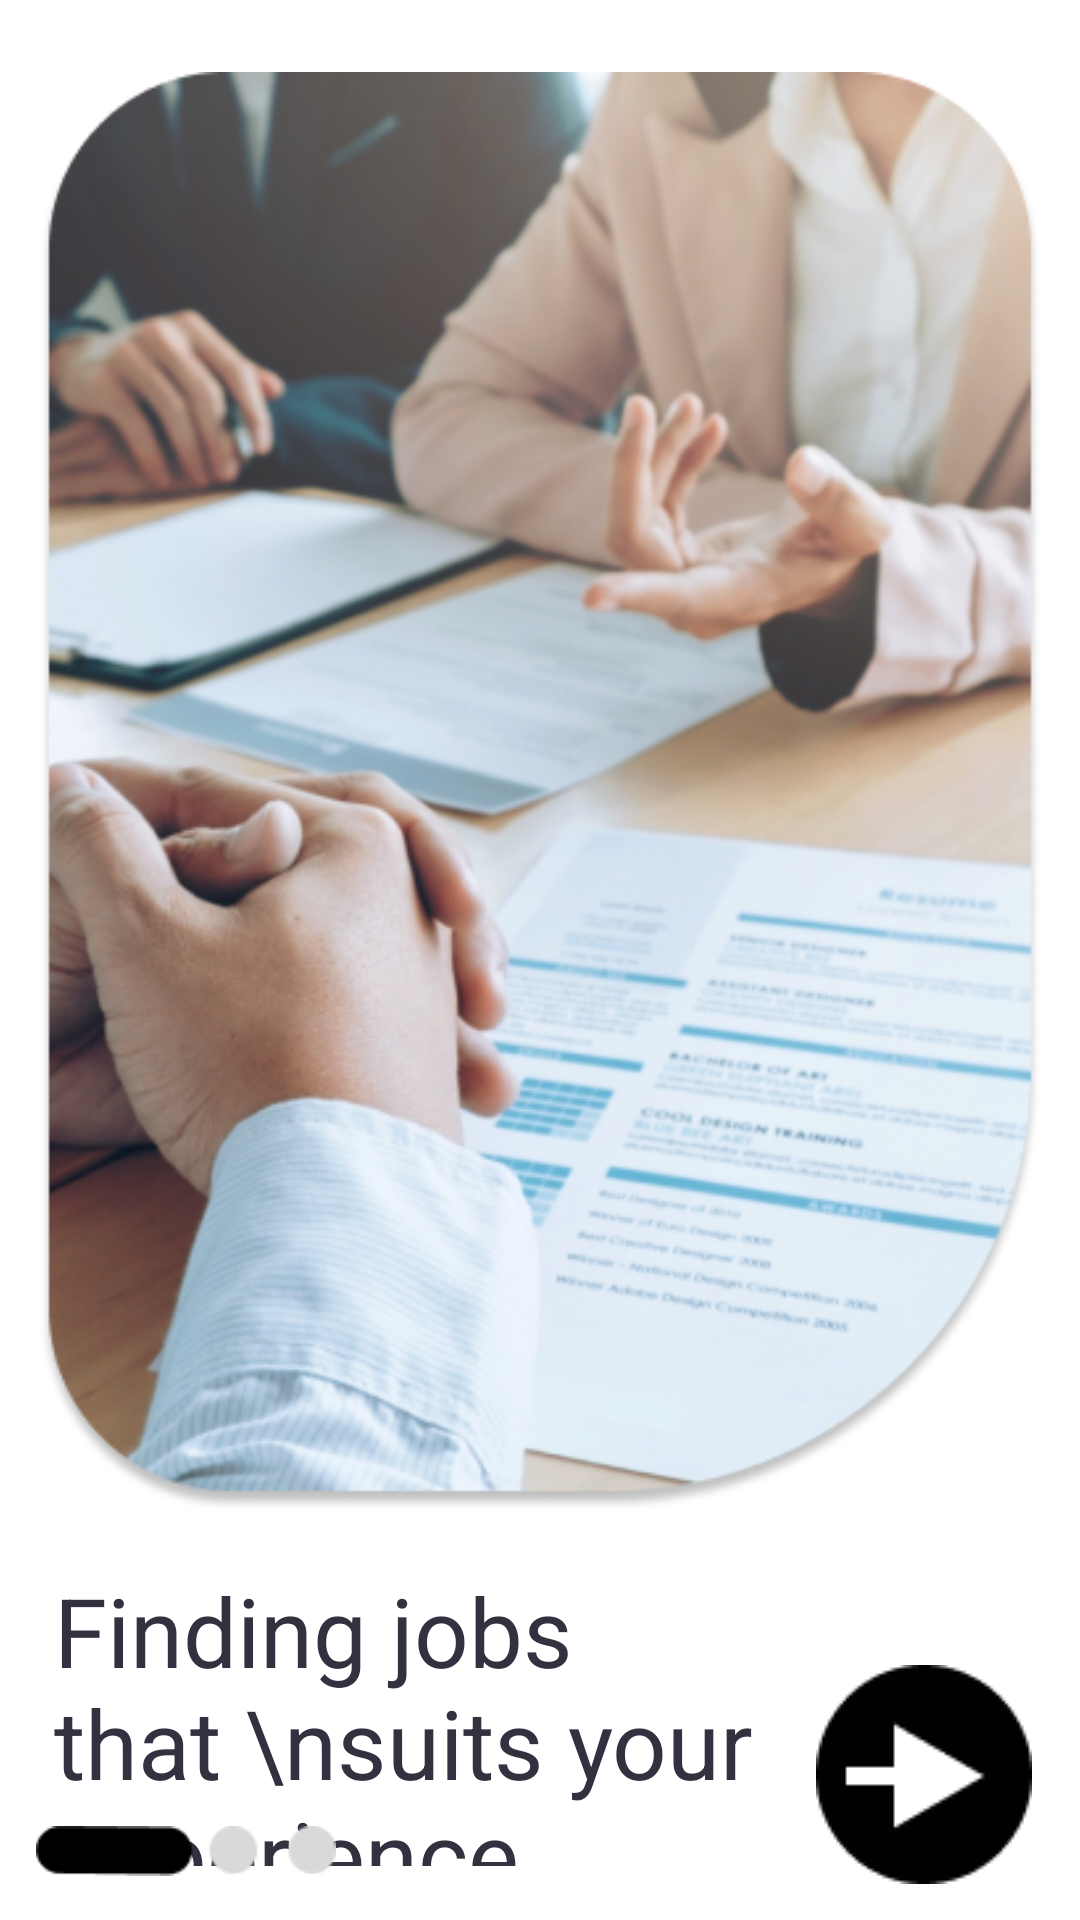

Icons on this 1080px×1920px Android screen, each with its box as bbox=[x1, y1, x2, y2]:
next: bbox=[816, 1665, 1032, 1884]
